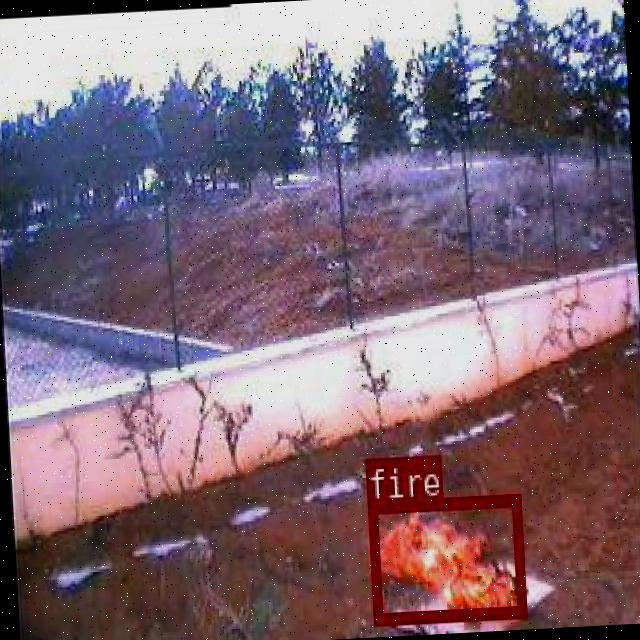fire: (366, 493, 524, 623)
